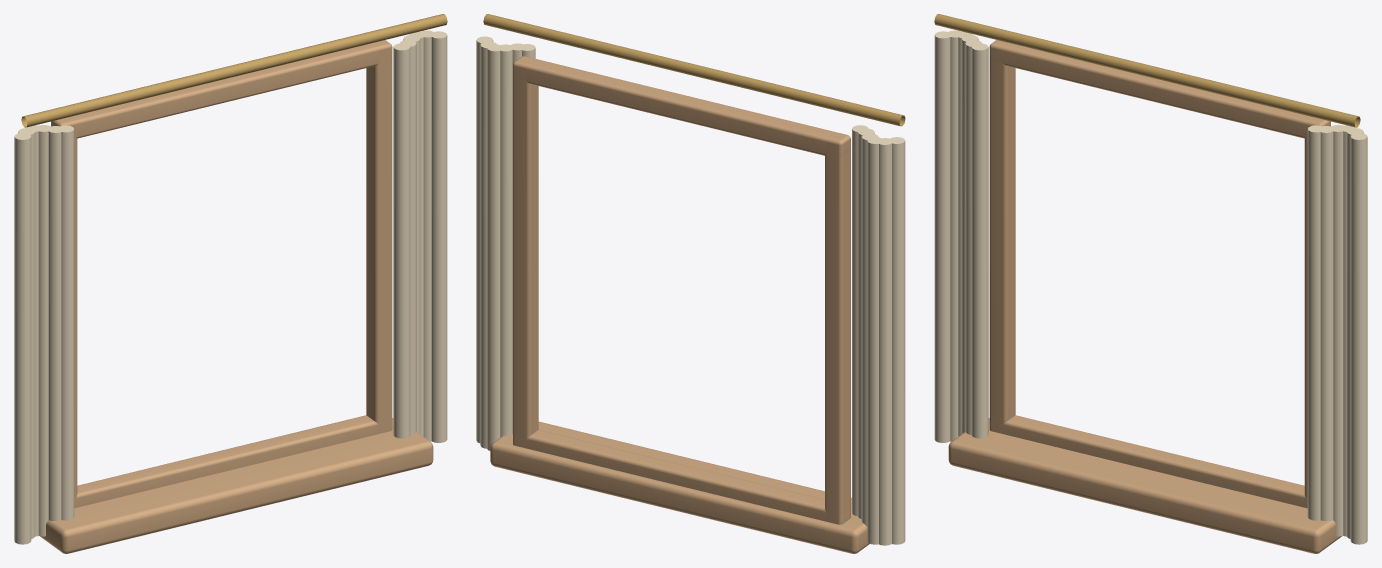
File: natural-window.glb
The picture shows the model from 3 angles, left to right: view 1: azimuth 30°, elevation 25°; view 2: azimuth 150°, elevation 25°; view 3: azimuth 330°, elevation 25°; orthographic projection.
Visible parts, largest first — view 1: Side moulding.002; view 2: Side moulding.002; view 3: Side moulding.002.
Boxes of the visible parts, x1,y1,x2,y2 form: Side moulding.002: (14,14,447,553); Side moulding.002: (476,14,905,553); Side moulding.002: (934,14,1367,553).
Size of the model in its own units: 2.05 by 1.98 by 0.31.
